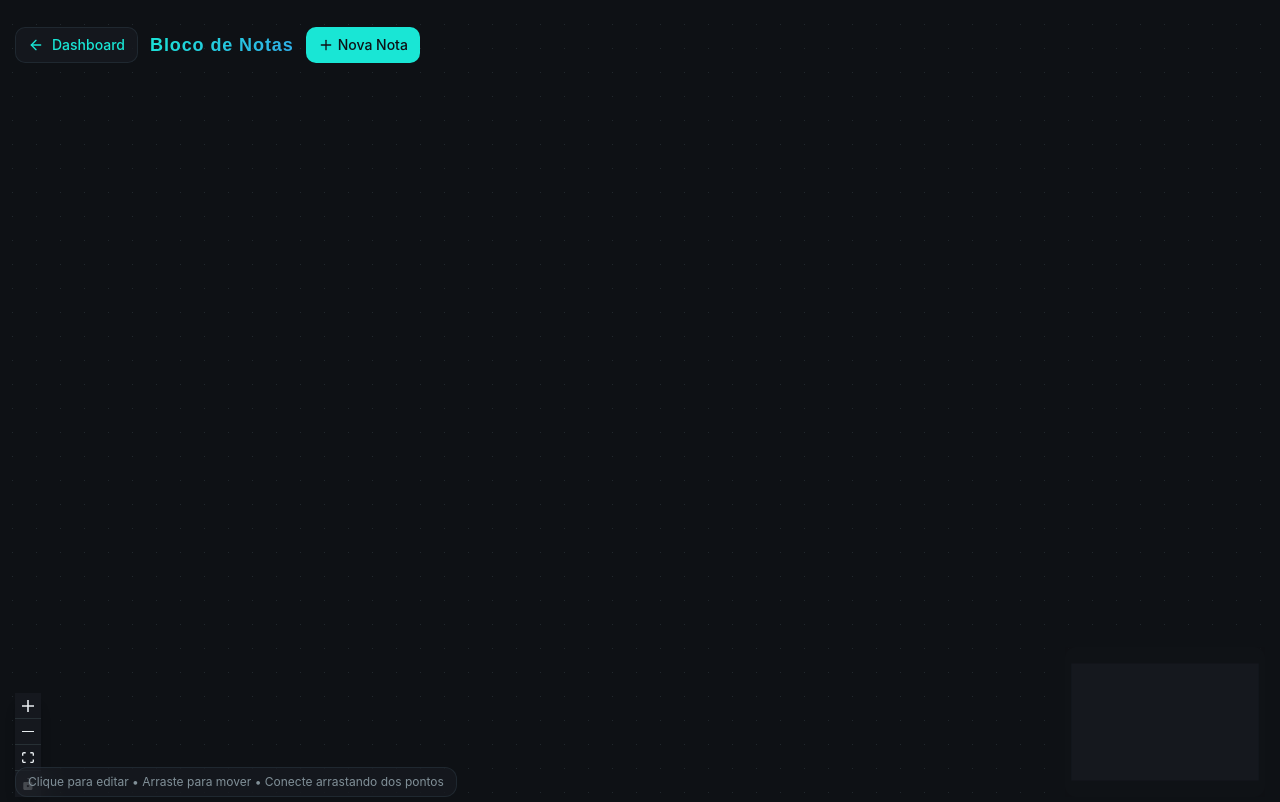
Test: links on a note › removes a saved link from the note
The image size is (1280, 802).
Later steps or results of the test are not shown.
Click the button "Nova Nota".
click(363, 45)  # box left=306, top=27, right=420, bottom=63
(page scrolled)
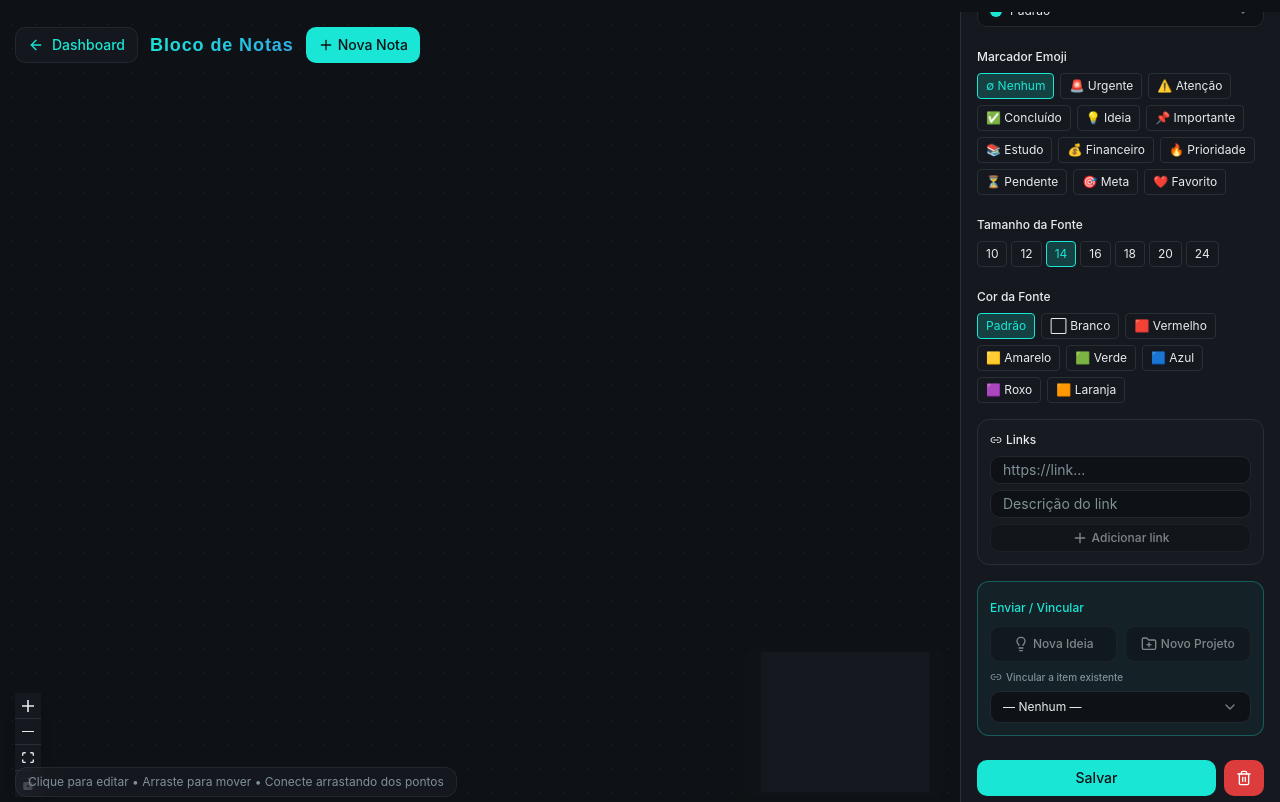
Type "https://example.com/doc" into the field with placeholder "https://link...".
click(1120, 470); type("https://example.com/doc")  # box left=990, top=456, right=1251, bottom=484
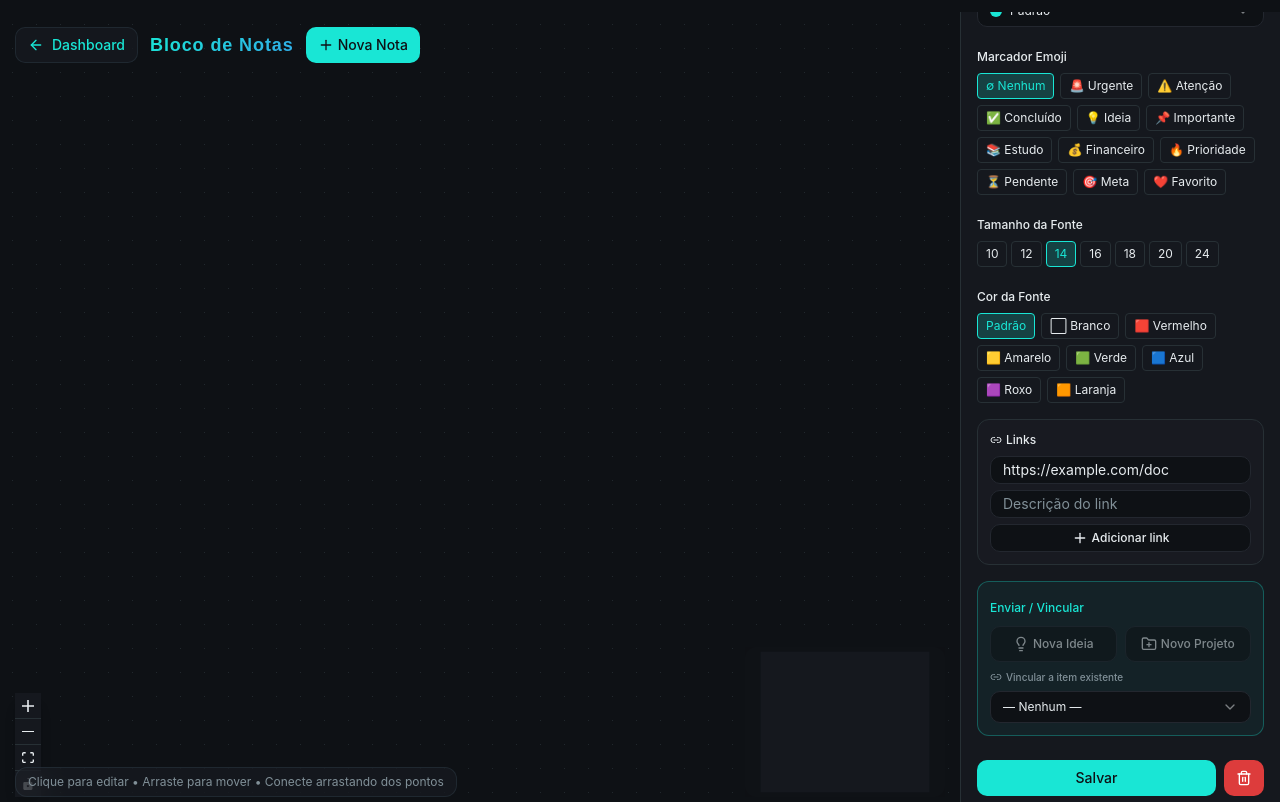
Click the button "Adicionar link".
click(1120, 538)  # box left=990, top=524, right=1251, bottom=552
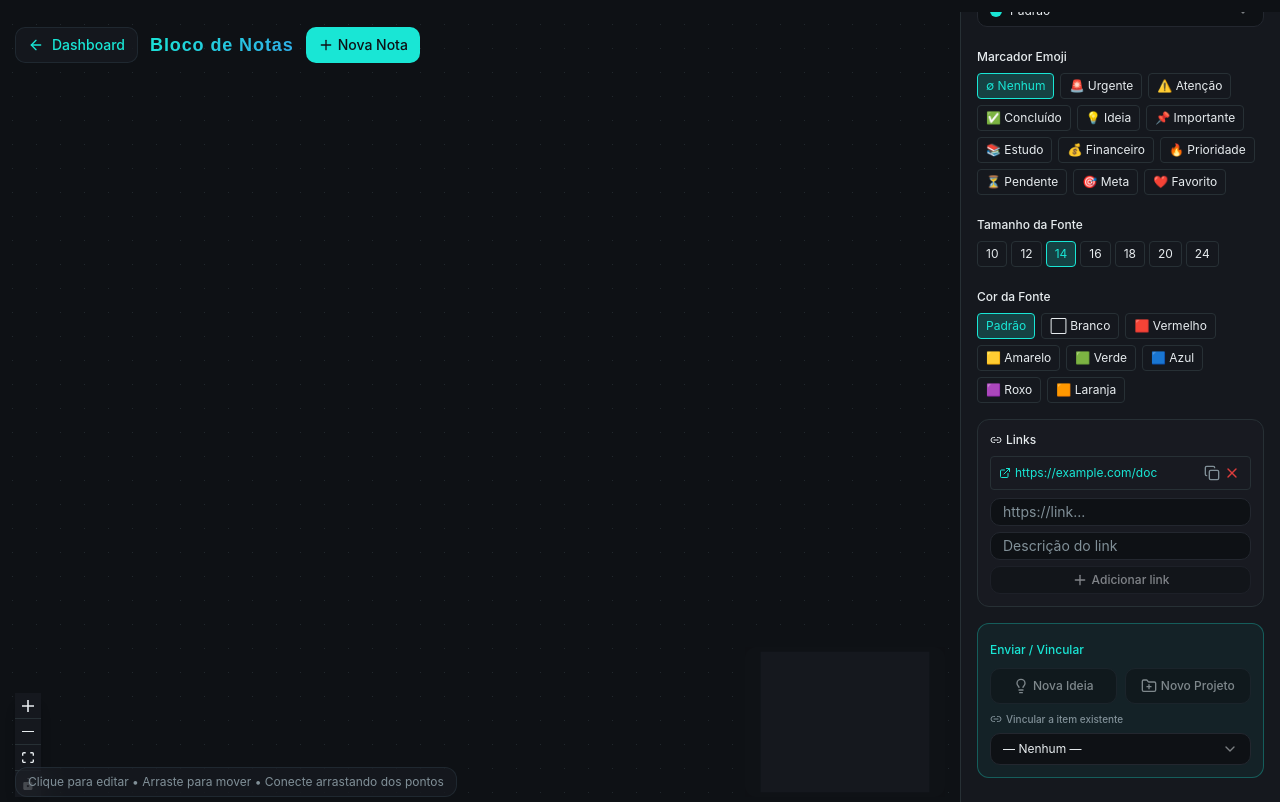
Check: the text "https://example.com/doc" is shown, box left=1015, top=464, right=1157, bottom=480
